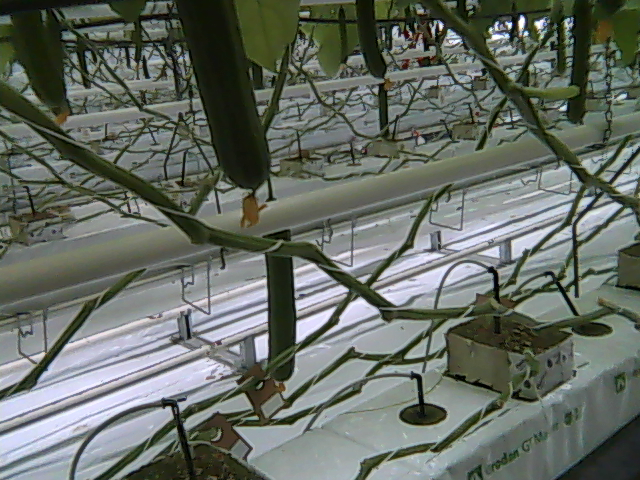concombre: (174, 1, 273, 228)
